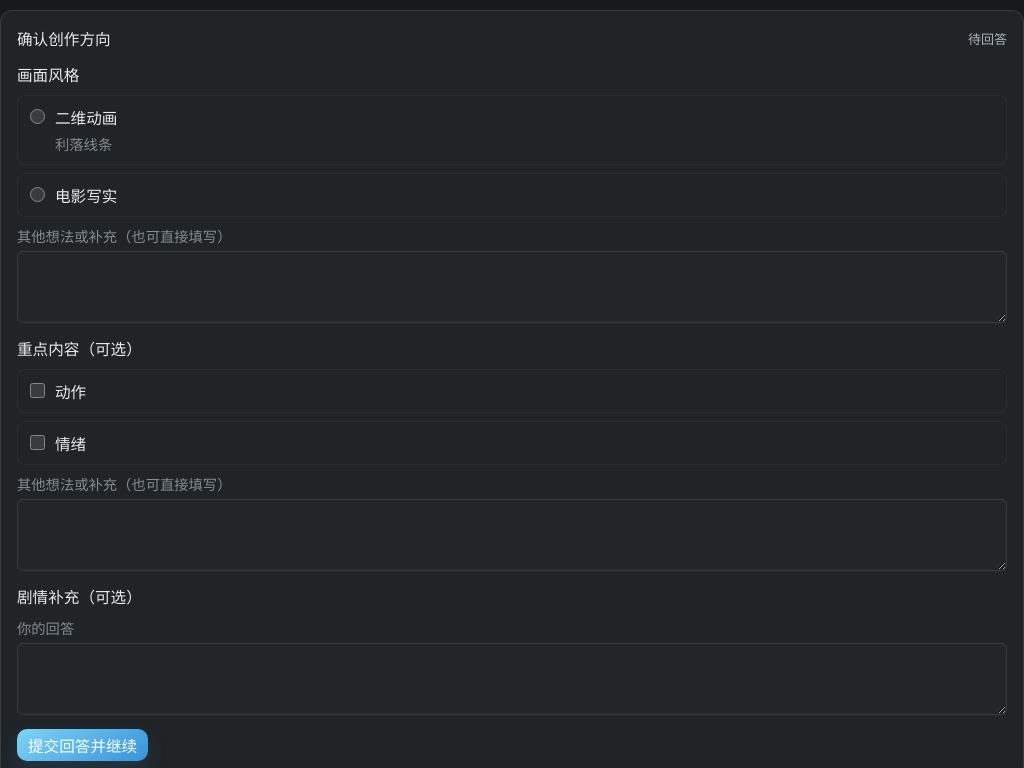
Scenario: accepts a custom written answer without choosing an option and prevents double submission
Type "水墨风" into the text box named "画面风格：补充回答" at [512, 287], box [17,251,1007,323]
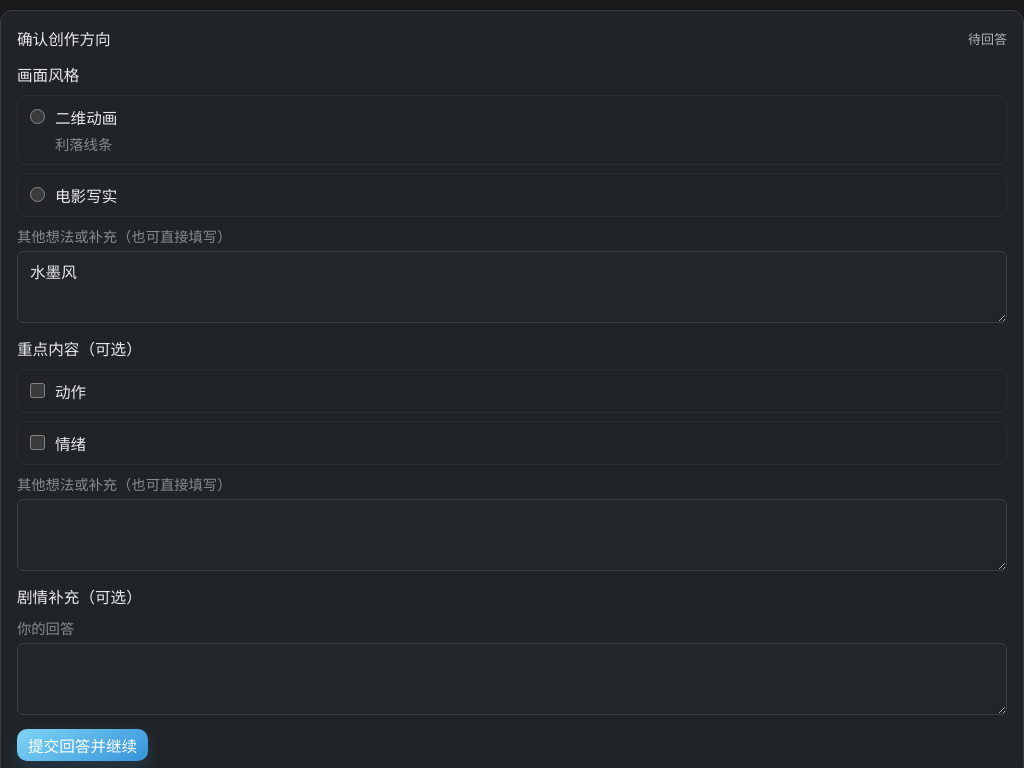
Click the button at [83, 745], box [17,729,148,761]
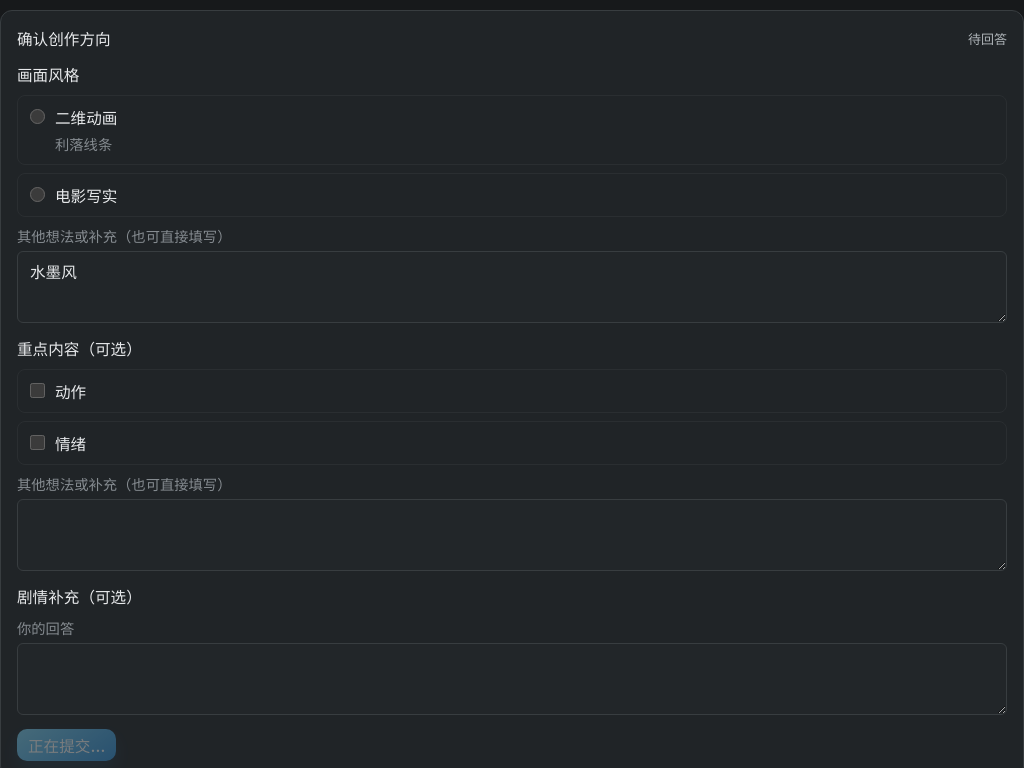
Click the button at [67, 745], box [17,729,116,761]
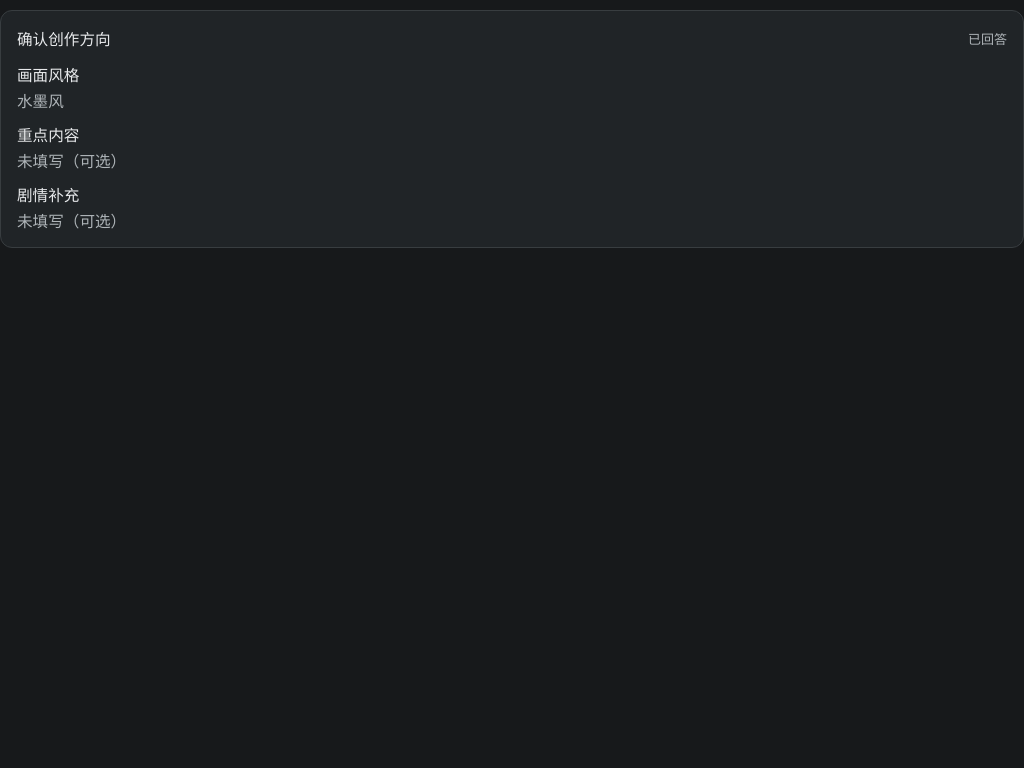
Result: the button "正在提交…" is gone
